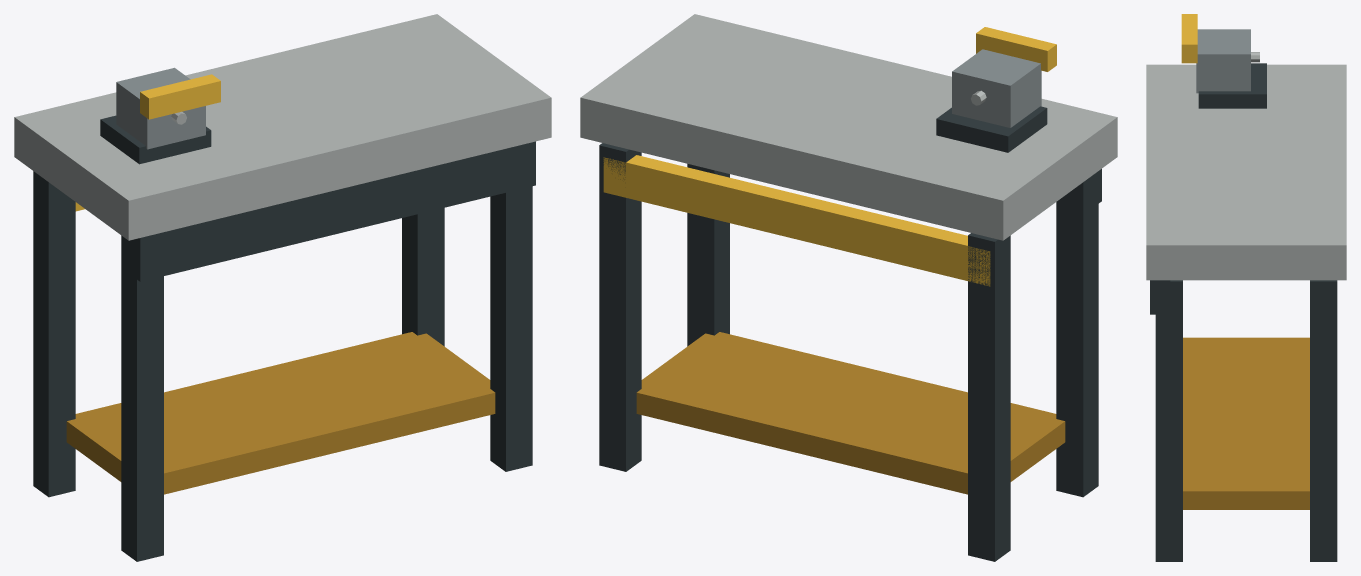
File: maintenance_bench.glb
3 renders of one model, left to right at view 1: azimuth 30°, elevation 25°; view 2: azimuth 150°, elevation 25°; view 3: azimuth 270°, elevation 25°, orthographic. The views are drawn at different scales.
Visible parts, largest first — view 1: bench_top, bench_lower_shelf, bench_front_apron, bench_leg_0_1, bench_leg_0_0, bench_leg_1_0, bench_leg_1_1, bench_vise_body, bench_vise_jaw, bench_vise_base; view 2: bench_top, bench_lower_shelf, bench_back_rail, bench_leg_0_1, bench_leg_0_0, bench_leg_1_1, bench_vise_body, bench_leg_1_0, bench_vise_base, bench_vise_jaw; view 3: bench_top, bench_lower_shelf, bench_leg_1_1, bench_leg_1_0, bench_vise_body, bench_vise_base, bench_vise_jaw, bench_front_apron.
Boxes of the visible parts, x1=… form: bench_top: x1=14, y1=14, x2=551, y2=240; bench_lower_shelf: x1=66, y1=332, x2=495, y2=494; bench_front_apron: x1=128, y1=141, x2=535, y2=281; bench_leg_0_1: x1=33, y1=171, x2=75, y2=497; bench_leg_0_0: x1=121, y1=235, x2=163, y2=561; bench_leg_1_0: x1=490, y1=186, x2=532, y2=471; bench_leg_1_1: x1=402, y1=207, x2=444, y2=346; bench_vise_body: x1=116, y1=67, x2=205, y2=149; bench_vise_jaw: x1=140, y1=74, x2=220, y2=119; bench_vise_base: x1=100, y1=115, x2=211, y2=164; bench_top: x1=580, y1=14, x2=1117, y2=240; bench_lower_shelf: x1=636, y1=332, x2=1065, y2=494; bench_back_rail: x1=603, y1=155, x2=990, y2=286; bench_leg_0_1: x1=968, y1=233, x2=1010, y2=561; bench_leg_0_0: x1=1056, y1=172, x2=1098, y2=497; bench_leg_1_1: x1=599, y1=143, x2=641, y2=471; bench_vise_body: x1=952, y1=49, x2=1041, y2=127; bench_leg_1_0: x1=687, y1=163, x2=729, y2=346; bench_vise_base: x1=936, y1=106, x2=1047, y2=152; bench_vise_jaw: x1=976, y1=27, x2=1056, y2=71; bench_top: x1=1146, y1=64, x2=1346, y2=280; bench_lower_shelf: x1=1183, y1=337, x2=1309, y2=509; bench_leg_1_1: x1=1310, y1=280, x2=1337, y2=561; bench_leg_1_0: x1=1155, y1=280, x2=1182, y2=561; bench_vise_body: x1=1196, y1=29, x2=1250, y2=93; bench_vise_base: x1=1198, y1=63, x2=1266, y2=108; bench_vise_jaw: x1=1181, y1=14, x2=1197, y2=63; bench_front_apron: x1=1150, y1=280, x2=1170, y2=314.
Bounding box in the file's own units: 0.94 × 0.9475 × 0.44.
